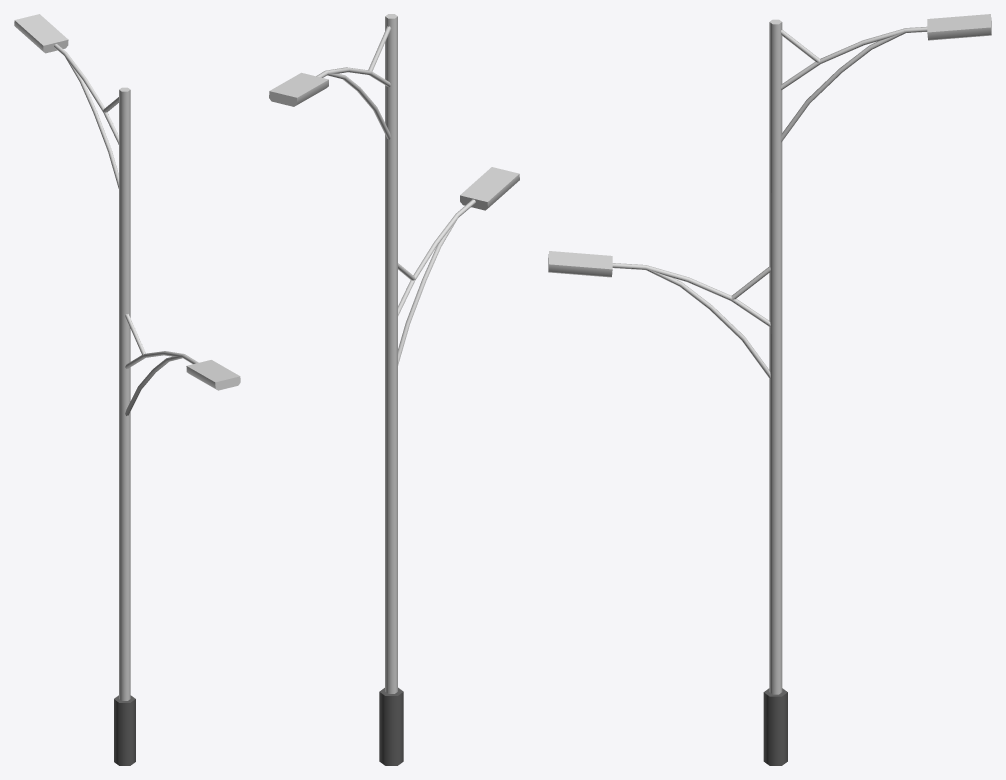
File: LightPole.glb
The picture shows the model from 3 angles, left to right: view 1: azimuth 30°, elevation 25°; view 2: azimuth 150°, elevation 25°; view 3: azimuth 270°, elevation 25°; orthographic projection. The views are drawn at different scales.
Visible parts, largest first — view 1: LightPole; view 2: LightPole; view 3: LightPole.
Boxes of the visible parts, x1,y1,x2,y2 form: LightPole: [14, 14, 240, 765]; LightPole: [269, 14, 519, 765]; LightPole: [548, 14, 991, 765].
Bounding box in the file's own units: 0.5 × 12.82 × 6.96.
2 materials, 1 textured.
